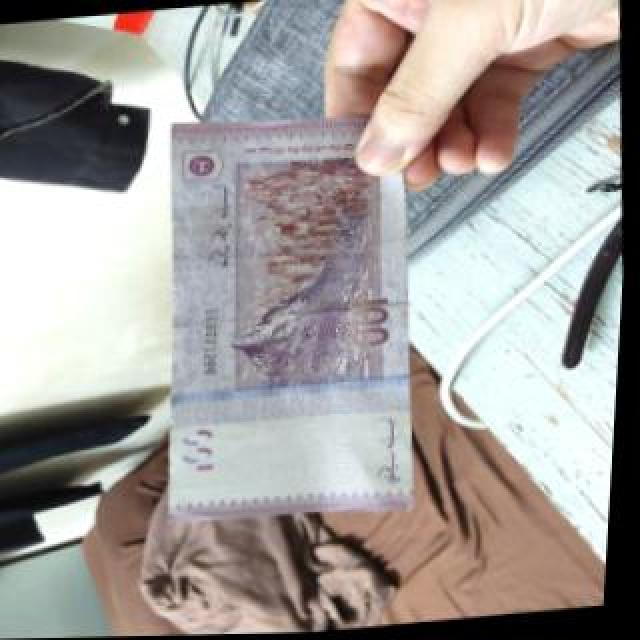100 Ringgit: (146, 102, 439, 611)
